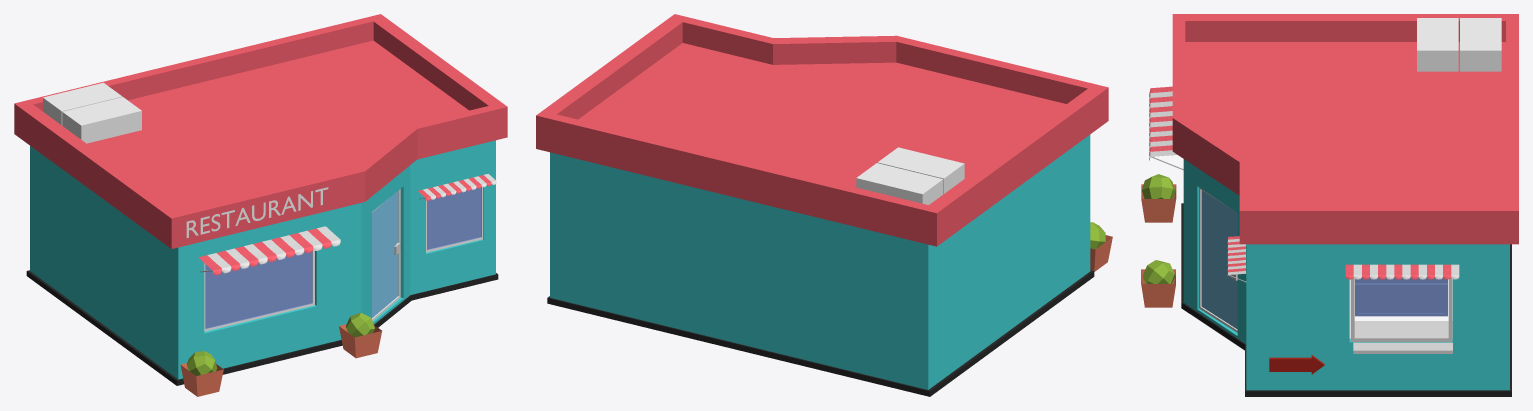
Rendered from restaurant.fbx.
3 views of the same model, side by side, from view 1: azimuth 30°, elevation 25°; view 2: azimuth 150°, elevation 25°; view 3: azimuth 270°, elevation 25° (orthographic). The views are drawn at different scales.
Parts seen in each view (by area): view 1: Cube.095, Cube.094, Plane.015, Plane.011, Plane.014, Cylinder.001, Cube.096, Cube, Cube.001, Icosphere, Icosphere.003, Text (+1 smaller); view 2: Cube.095, Cube.094, Cube.096, Cube.001, Cube, Icosphere; view 3: Cube.095, Cube.094, Plane.011, Cube.105, Cube.096, Cube, Cube.001, Cylinder.002, Cylinder.001, Icosphere, Icosphere.003, Cube.099 (+4 smaller).
Part boxes in pixels (left/top/right/bottom): Cube.095: left=14, top=14, right=507, bottom=248; Cube.094: left=30, top=140, right=495, bottom=379; Plane.015: left=204, top=249, right=314, bottom=331; Plane.011: left=372, top=189, right=400, bottom=321; Plane.014: left=426, top=186, right=483, bottom=252; Cylinder.001: left=198, top=226, right=340, bottom=275; Cube.096: left=26, top=270, right=498, bottom=385; Cube: left=62, top=97, right=141, bottom=143; Cube.001: left=43, top=82, right=122, bottom=125; Icosphere: left=180, top=351, right=223, bottom=396; Icosphere.003: left=339, top=312, right=382, bottom=358; Text: left=186, top=187, right=328, bottom=237; Cube.095: left=536, top=14, right=1108, bottom=246; Cube.094: left=550, top=135, right=1090, bottom=389; Cube.096: left=547, top=270, right=1094, bottom=396; Cube.001: left=856, top=163, right=943, bottom=204; Cube: left=877, top=147, right=964, bottom=194; Icosphere: left=1090, top=222, right=1112, bottom=271; Cube.095: left=1172, top=14, right=1518, bottom=244; Cube.094: left=1183, top=159, right=1509, bottom=390; Plane.011: left=1199, top=187, right=1237, bottom=332; Cube.105: left=1355, top=277, right=1447, bottom=316; Cube.096: left=1181, top=203, right=1511, bottom=396; Cube: left=1417, top=18, right=1458, bottom=71; Cube.001: left=1460, top=18, right=1501, bottom=71; Cylinder.002: left=1345, top=264, right=1459, bottom=279; Cylinder.001: left=1149, top=86, right=1183, bottom=170; Icosphere: left=1141, top=174, right=1176, bottom=222; Icosphere.003: left=1141, top=260, right=1175, bottom=307; Cube.099: left=1350, top=277, right=1452, bottom=341.
Bounding box in the file's own units: 3156 × 1443 × 2505.
